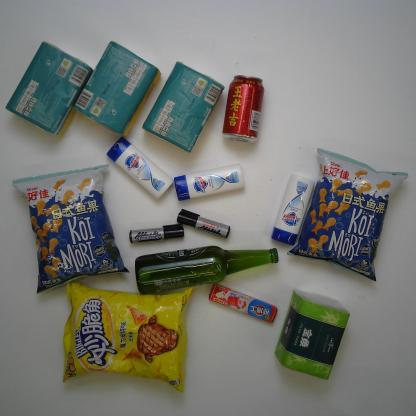Alcohol: (136, 245, 285, 294)
Candy: (202, 281, 279, 324)
Drink: (224, 74, 269, 140)
Personal Hygiene: (109, 136, 171, 198), (271, 168, 313, 244), (174, 163, 247, 200)
Puffed Food: (51, 276, 206, 390), (9, 160, 134, 288), (298, 145, 403, 281)
Stationery: (118, 217, 190, 248), (176, 208, 230, 240)
Tissue: (67, 42, 155, 135), (143, 58, 223, 152), (9, 40, 85, 138), (283, 285, 356, 385)
